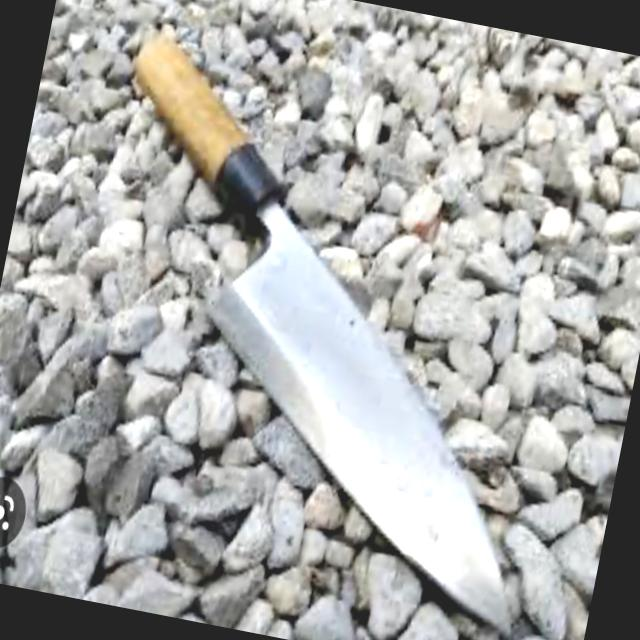knife: (36, 27, 614, 636)
